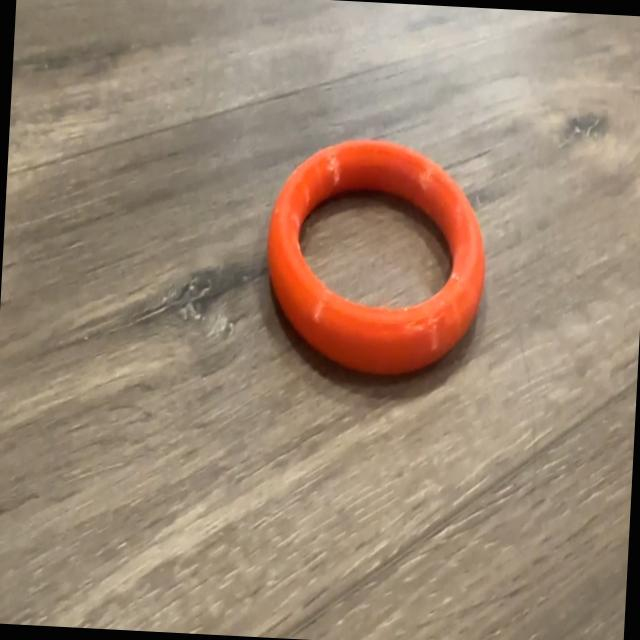note: (259, 130, 494, 390)
